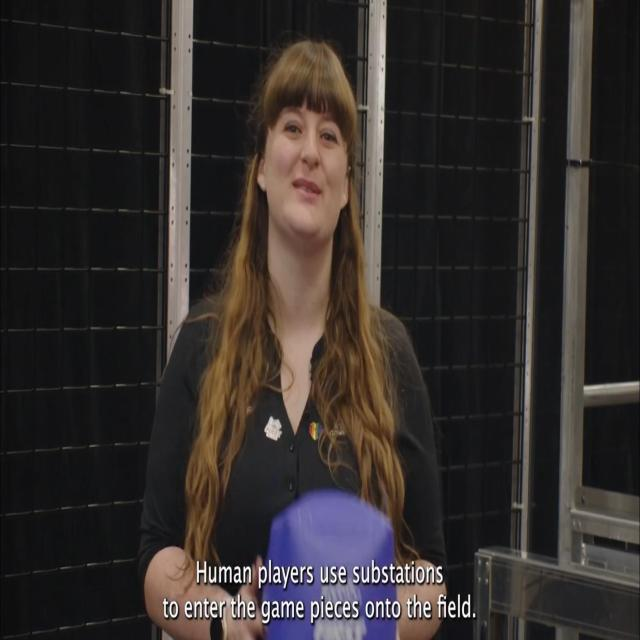frc_cube: (265, 494, 395, 640)
